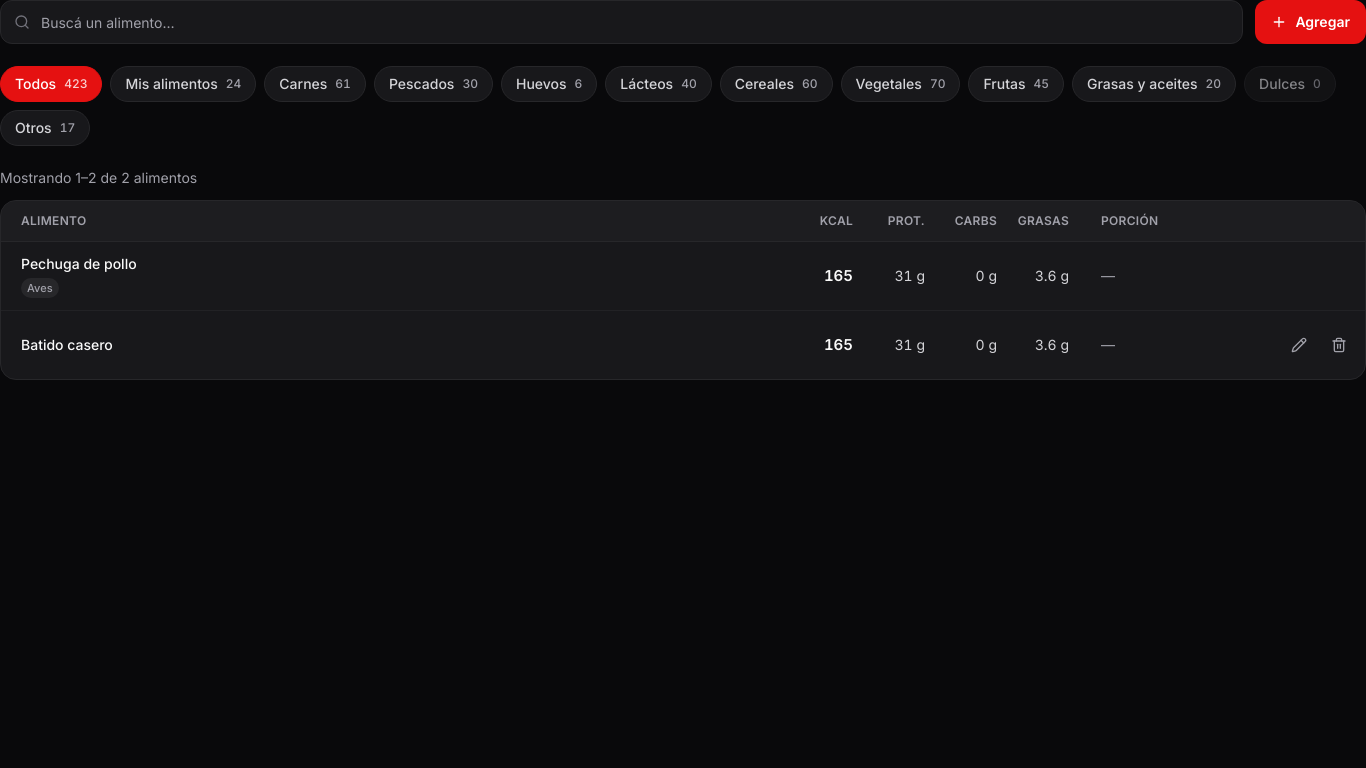
Scenario: food list › detail › opens on row click
The image size is (1366, 768).
Click the row "Pechuga de pollo Aves 165 31 g 0 g 3.6 g —": (683, 276) [1,242,1365,310]
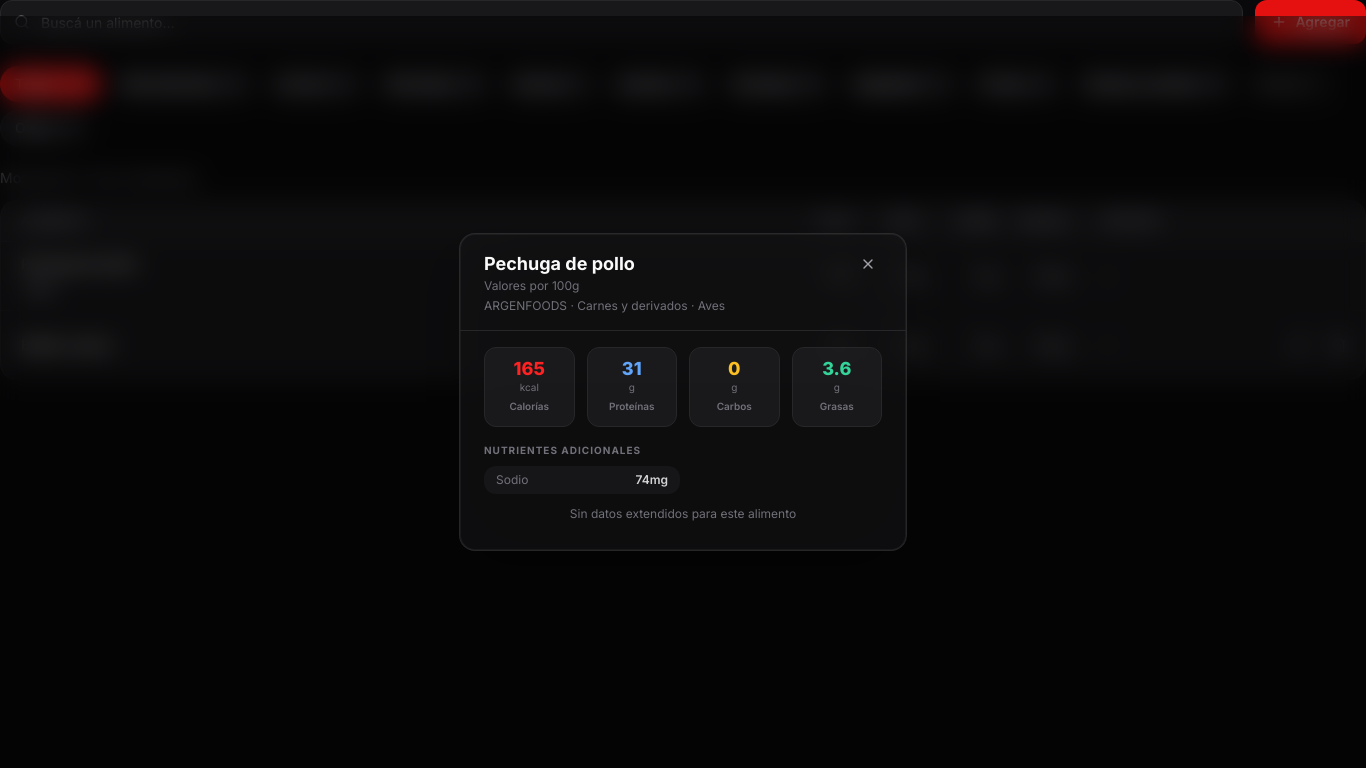
expect the dialog "Pechuga de pollo" is shown: met, box [459,233,907,551]
